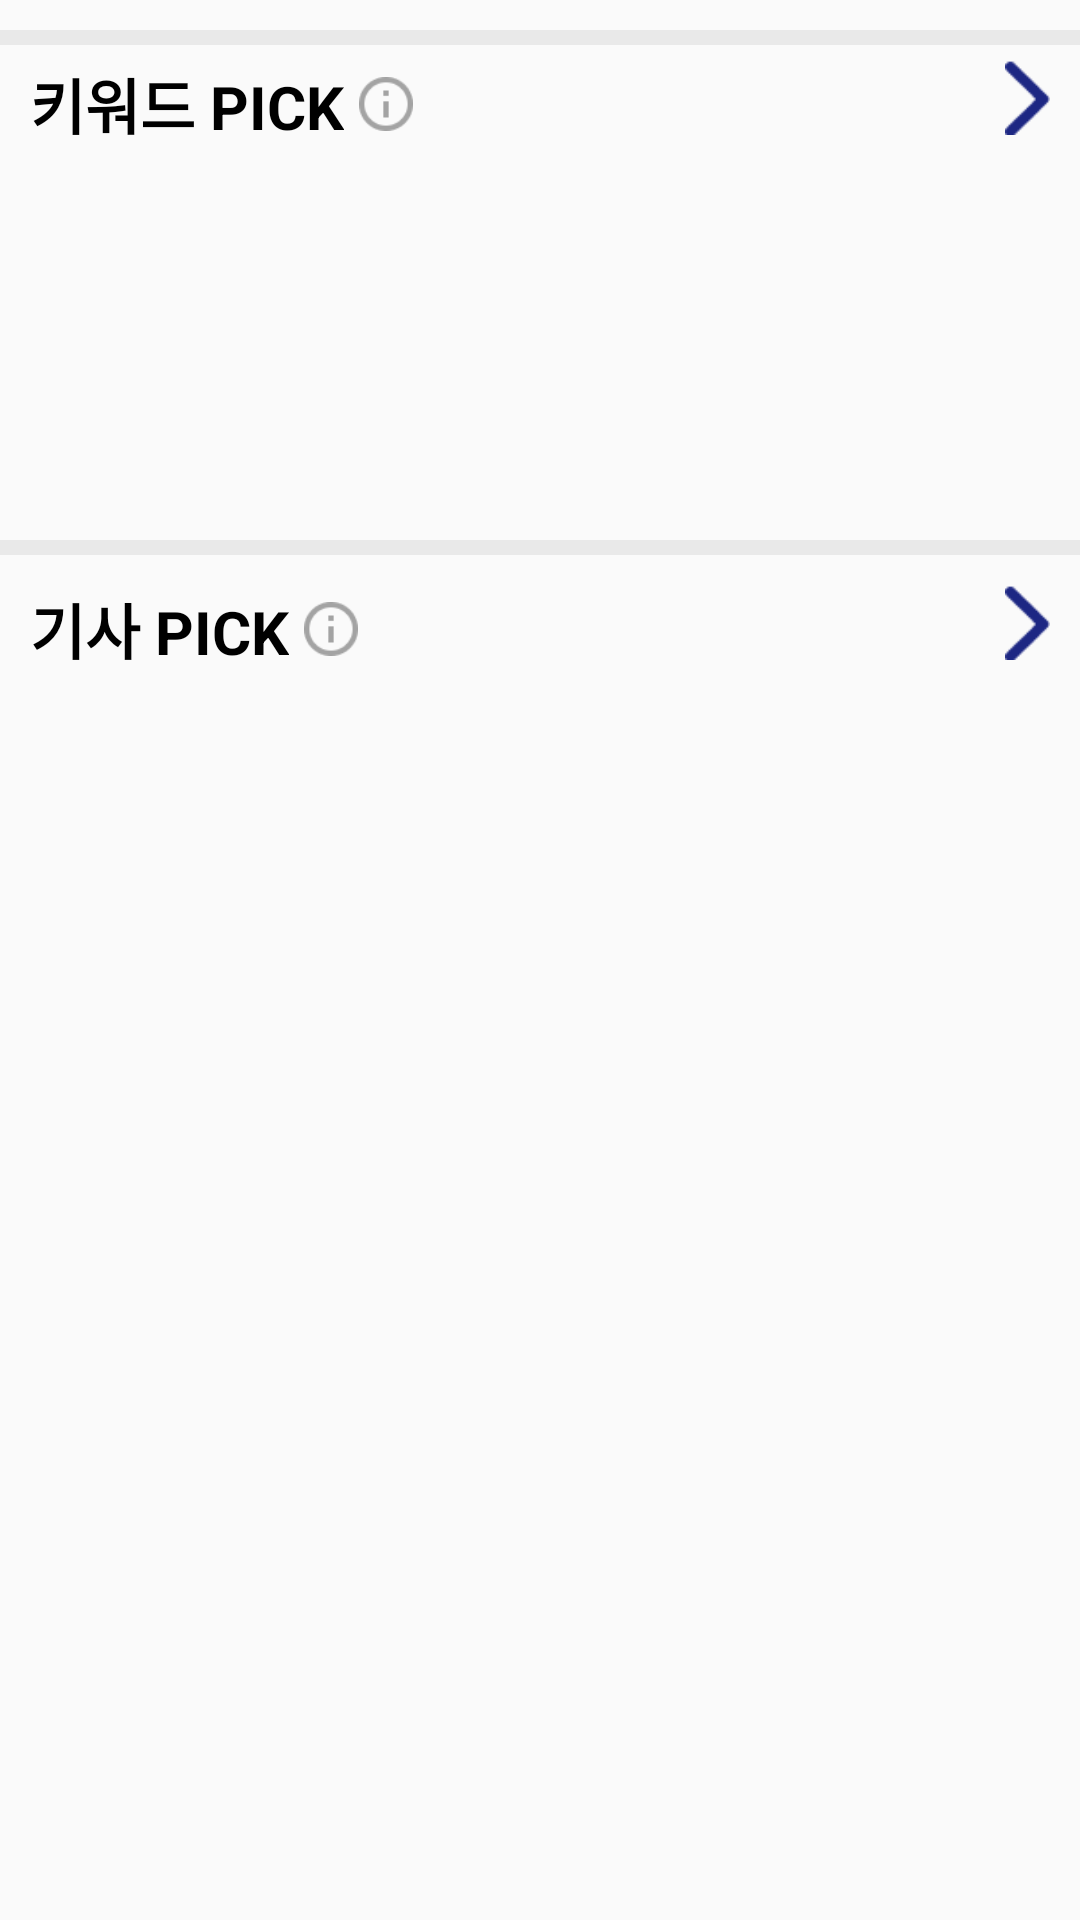

Screen size 1080x1920. Icon name, then its box in pixels as [x1,y1,x2,y2]:
go arrow: [1005,61,1050,135], [1005,586,1050,660]
tooltip: [359,77,413,131], [304,602,358,656]
